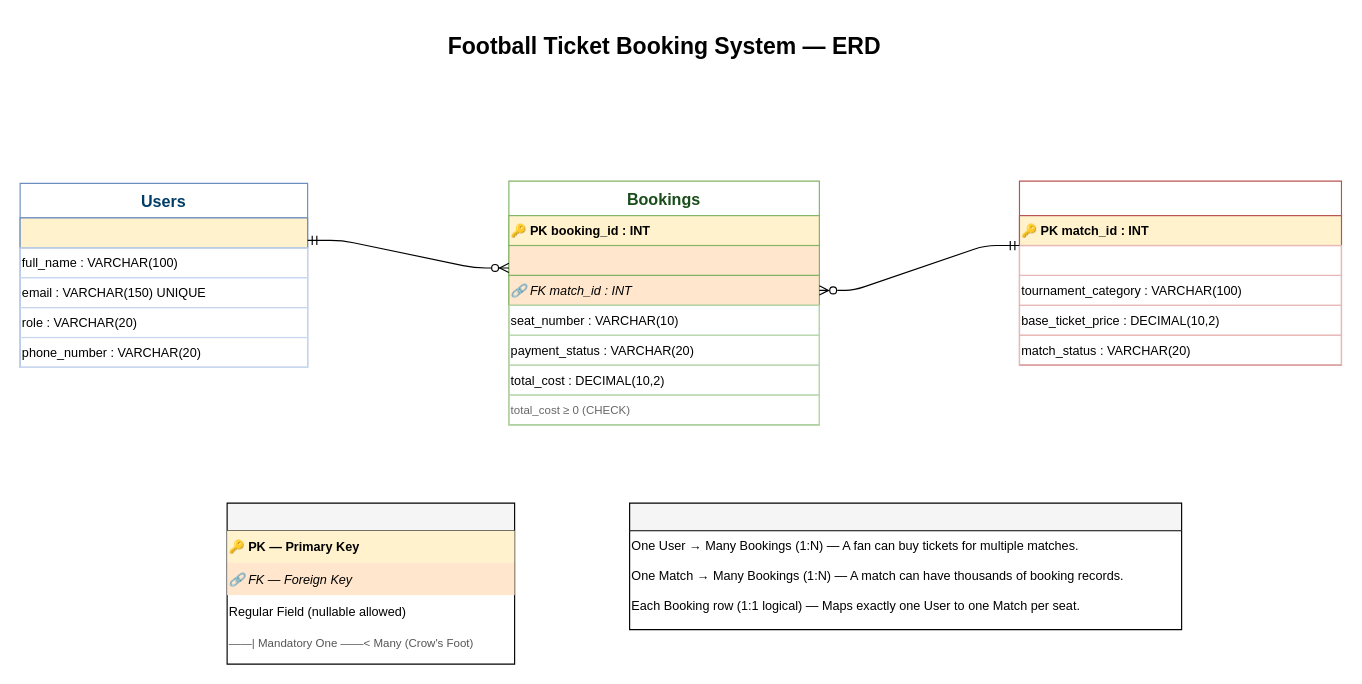
The diagram is 1362 pixels wide and 684 high, and some of its shapes have lost their labels. Here are the shapes that lost their labels. From the top down, the box of each, then its label:
(19, 217, 308, 248): 🔑 PK user_id : INT
(508, 244, 819, 275): 🔗 FK user_id : INT
(1018, 244, 1341, 275): fixture : VARCHAR(150)
(1018, 180, 1341, 365): Matches
(226, 502, 515, 664): Legend
(628, 502, 1182, 630): Relationship Summary
